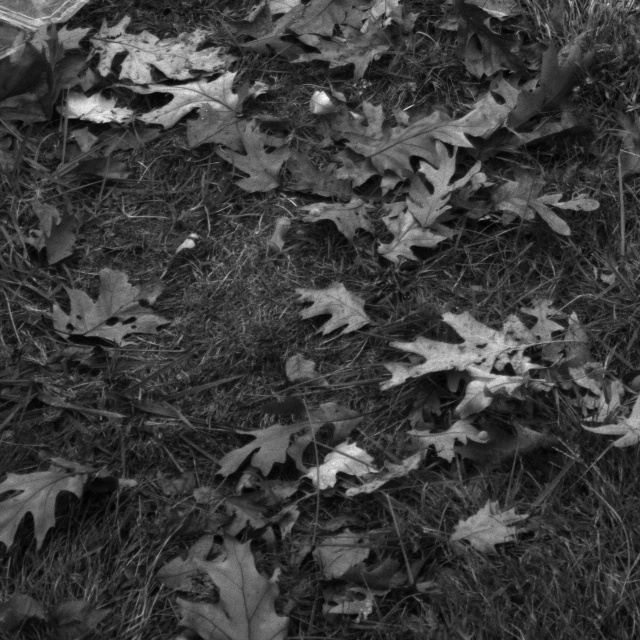container: (0, 0, 130, 146)
